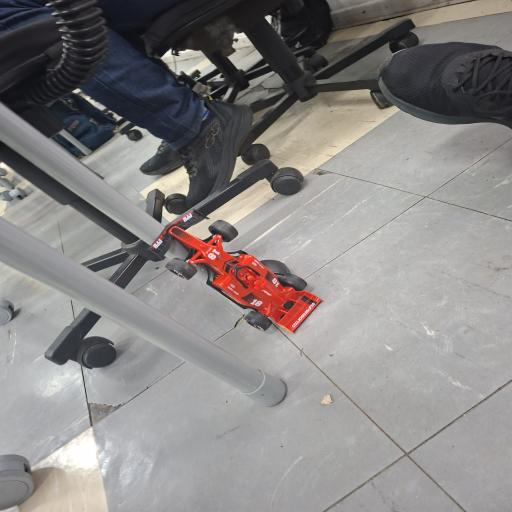carro: (151, 211, 321, 332)
